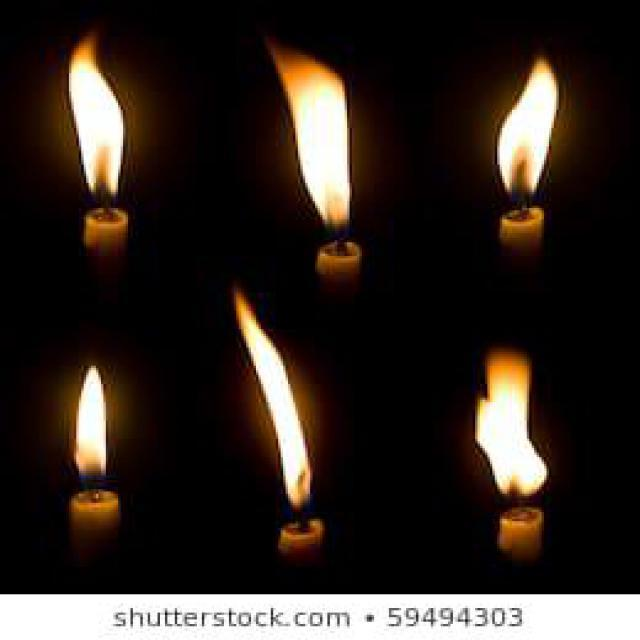Fire: (232, 290, 312, 514), (270, 40, 350, 230), (476, 350, 548, 498), (70, 32, 124, 199), (497, 60, 559, 196), (72, 364, 108, 486)
